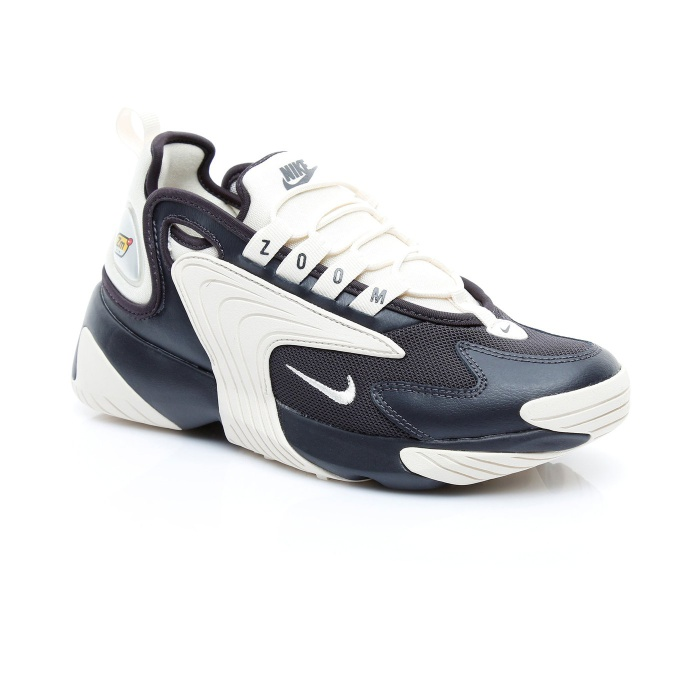nike: (277, 352, 371, 414)
